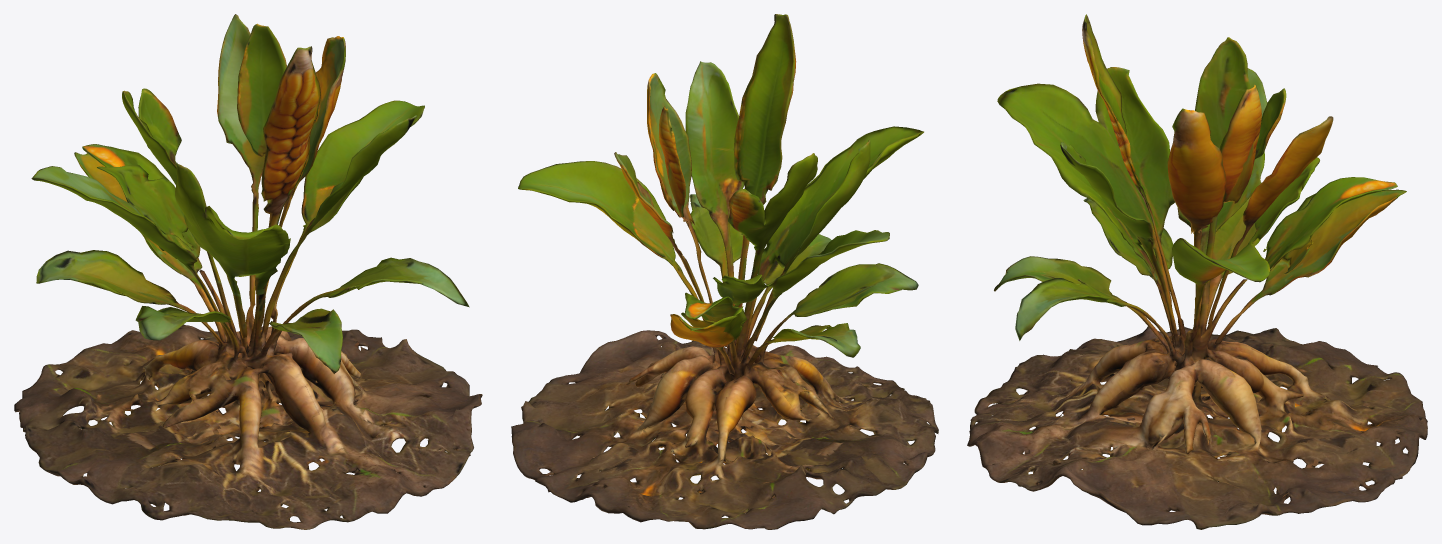
The model's file is Turmeric.glb.
3 views of the same model, side by side, from view 1: azimuth 30°, elevation 25°; view 2: azimuth 150°, elevation 25°; view 3: azimuth 270°, elevation 25° (orthographic). The views are drawn at different scales.
Bounding box in the file's own units: 1.93 × 1.97 × 1.95.
1 material, 1 textured.
